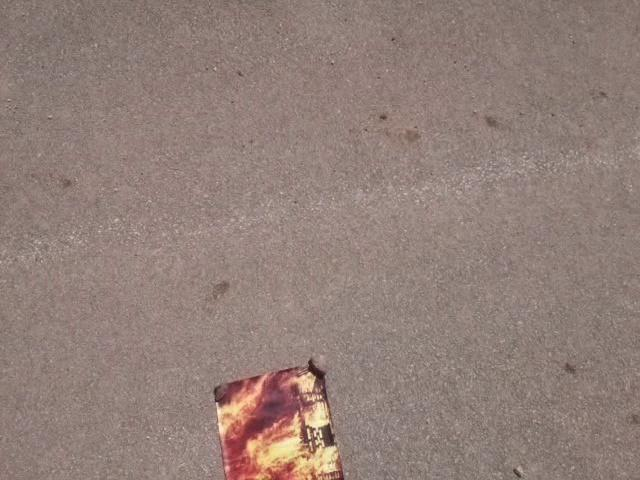fire-poster: (211, 355, 347, 479)
